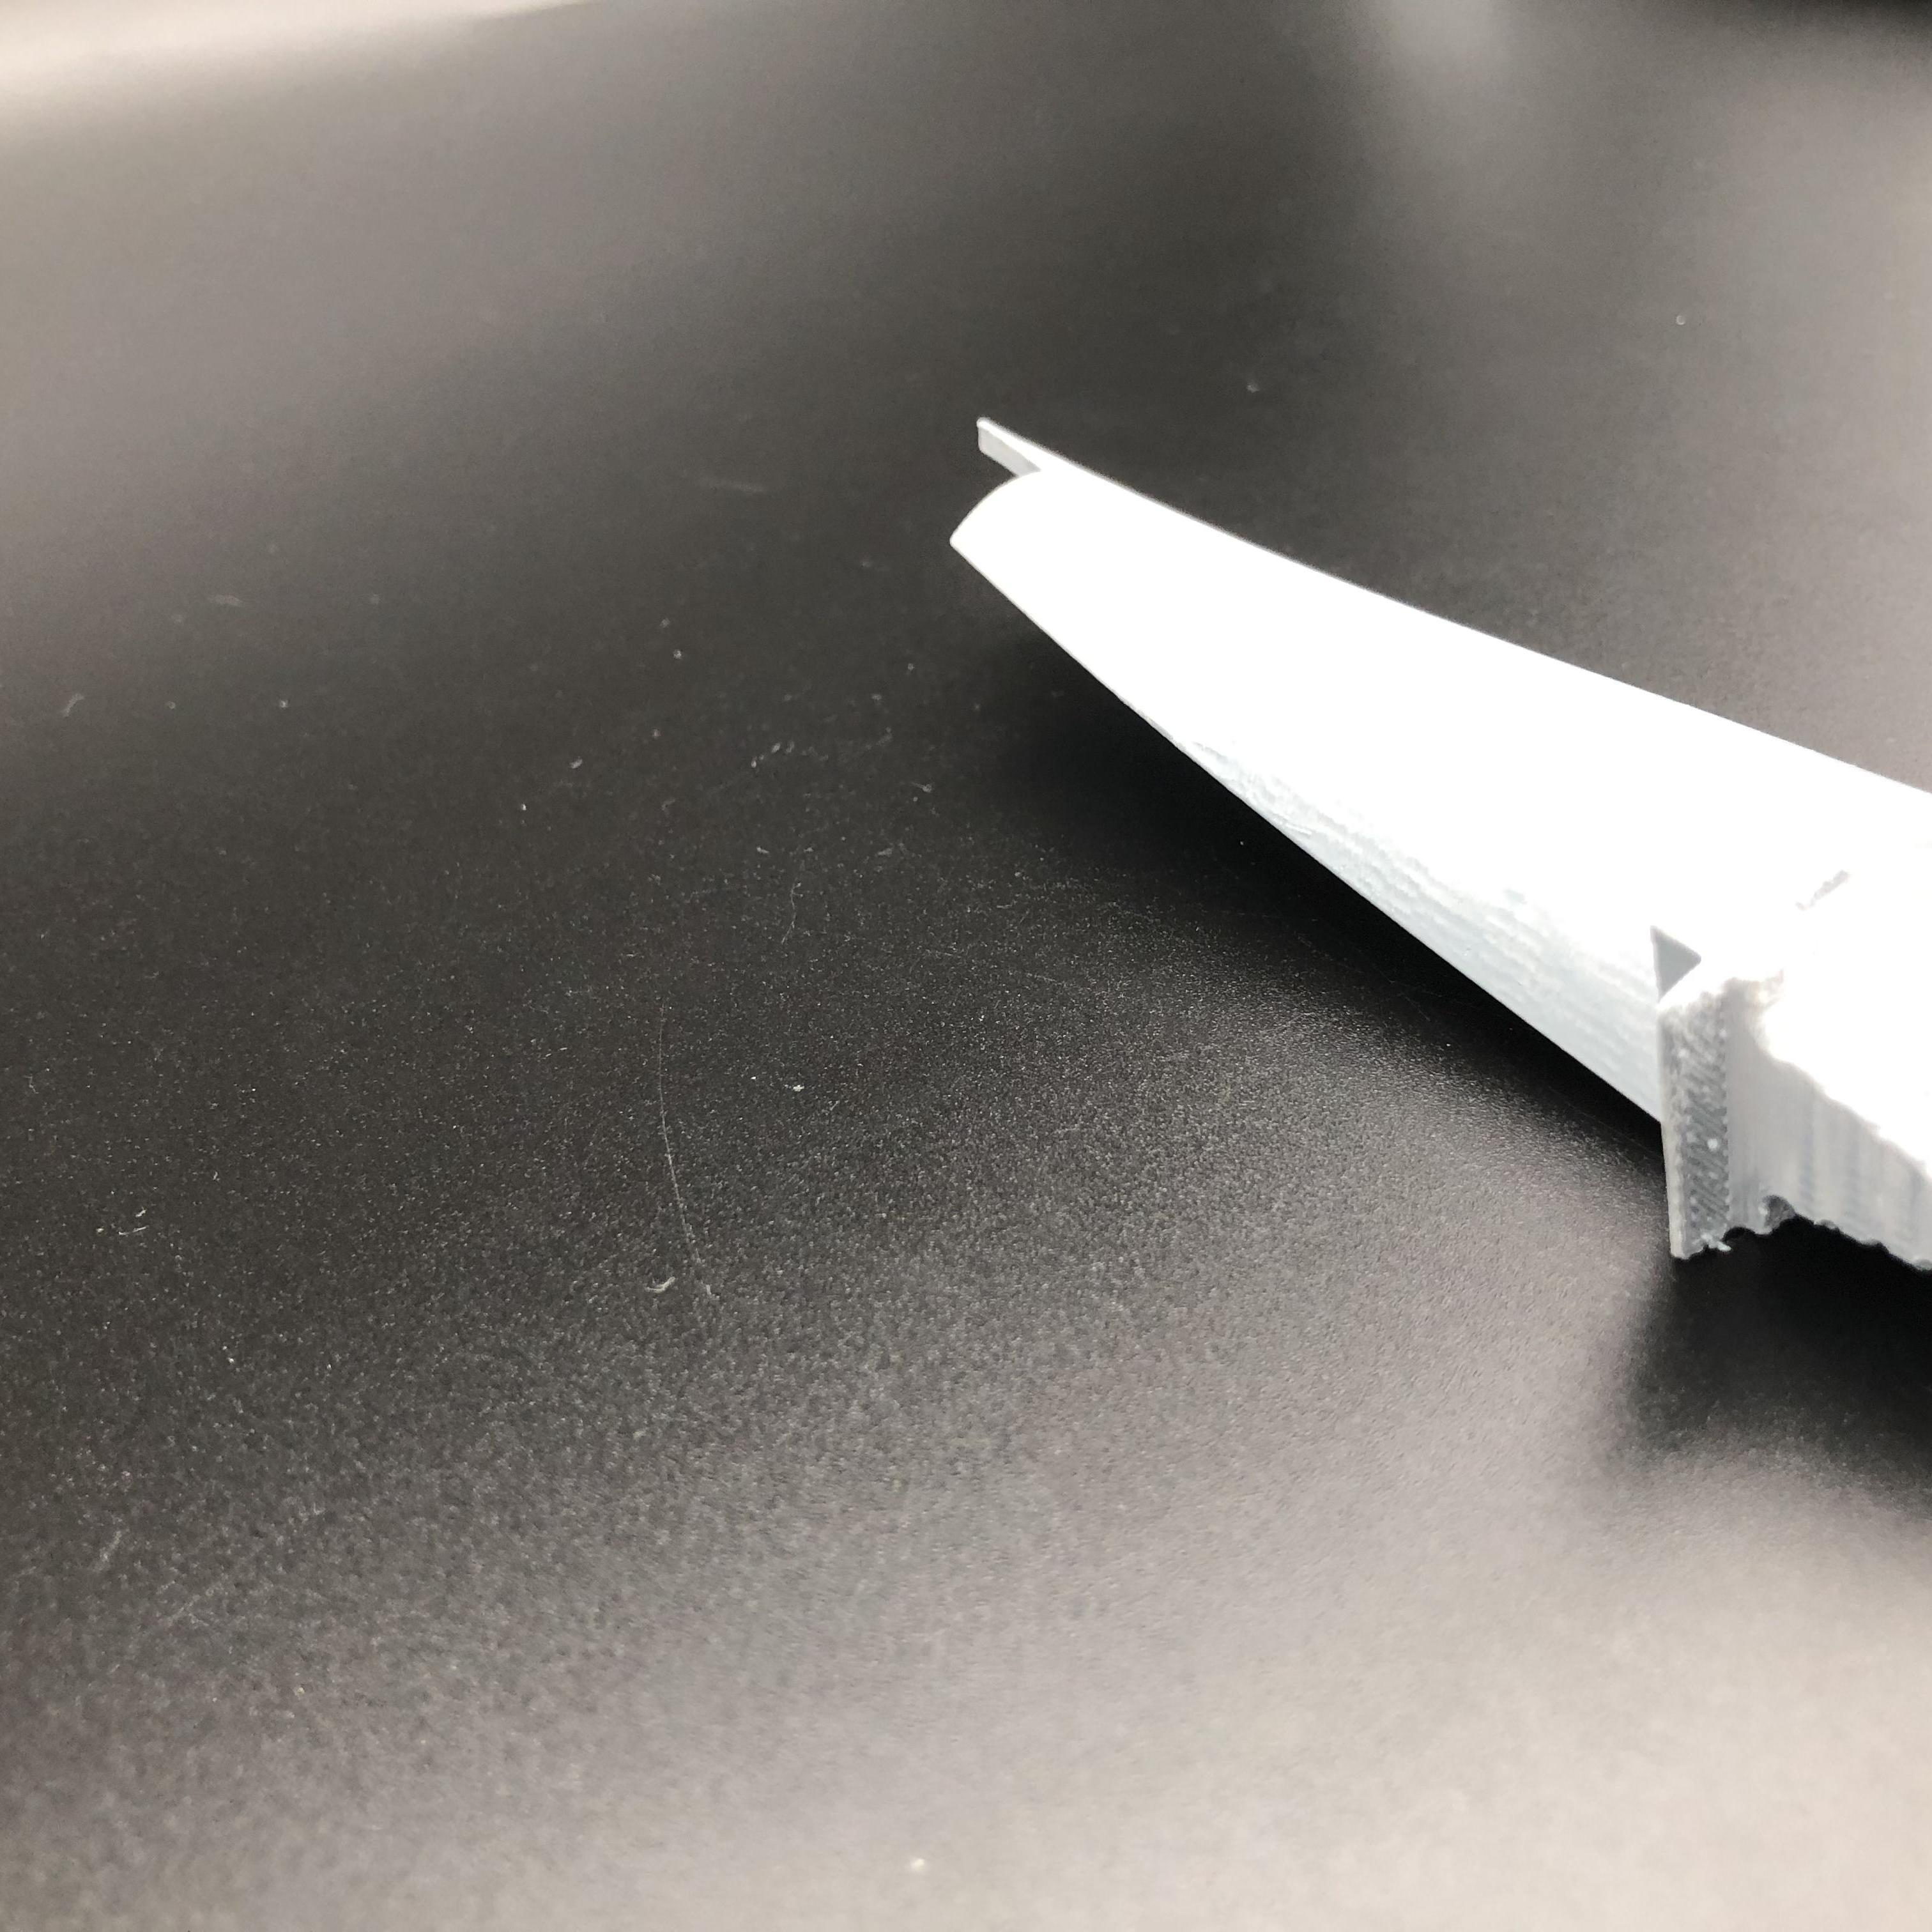fracture: (941, 416, 1067, 552)
